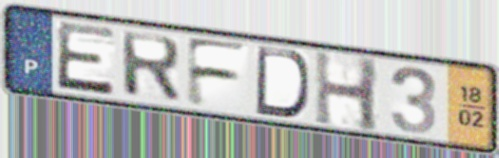3: (388, 64, 439, 136)
D: (252, 43, 313, 120)
E: (54, 19, 118, 99)
F: (182, 34, 251, 110)
H: (312, 46, 383, 136)
R: (117, 29, 184, 106)
